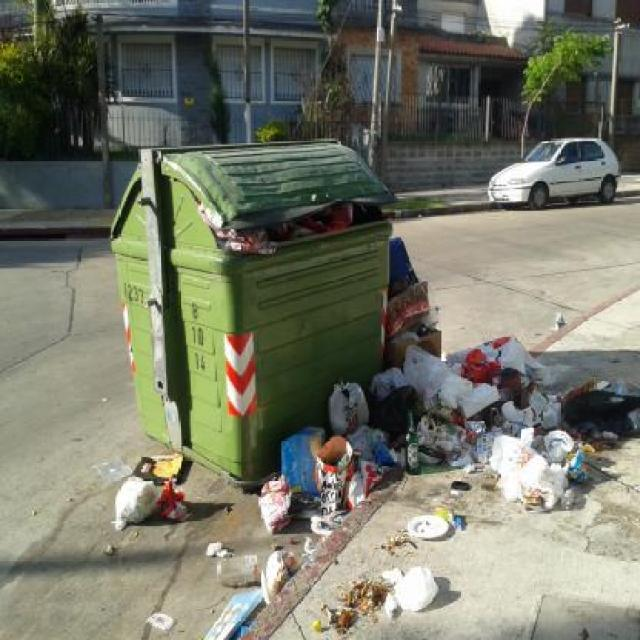garbage: (269, 334, 588, 508), (380, 237, 444, 366), (110, 454, 193, 530), (343, 558, 443, 620), (202, 543, 295, 607), (228, 205, 390, 238), (395, 500, 467, 544)
